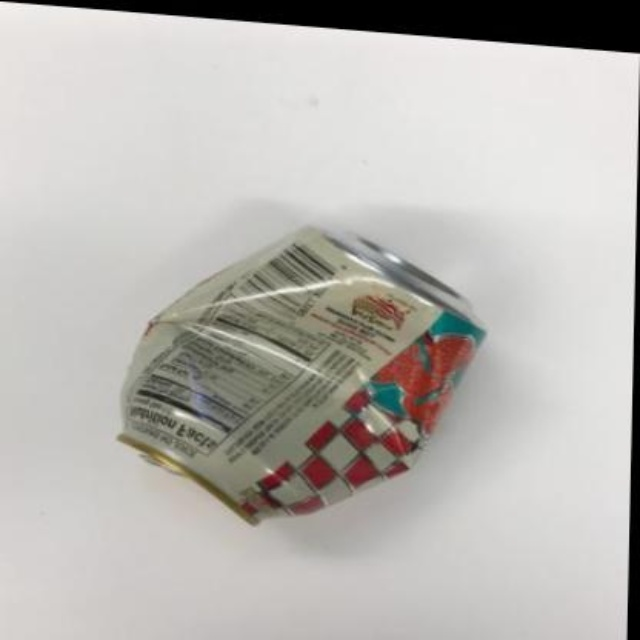trash: (118, 226, 485, 522)
